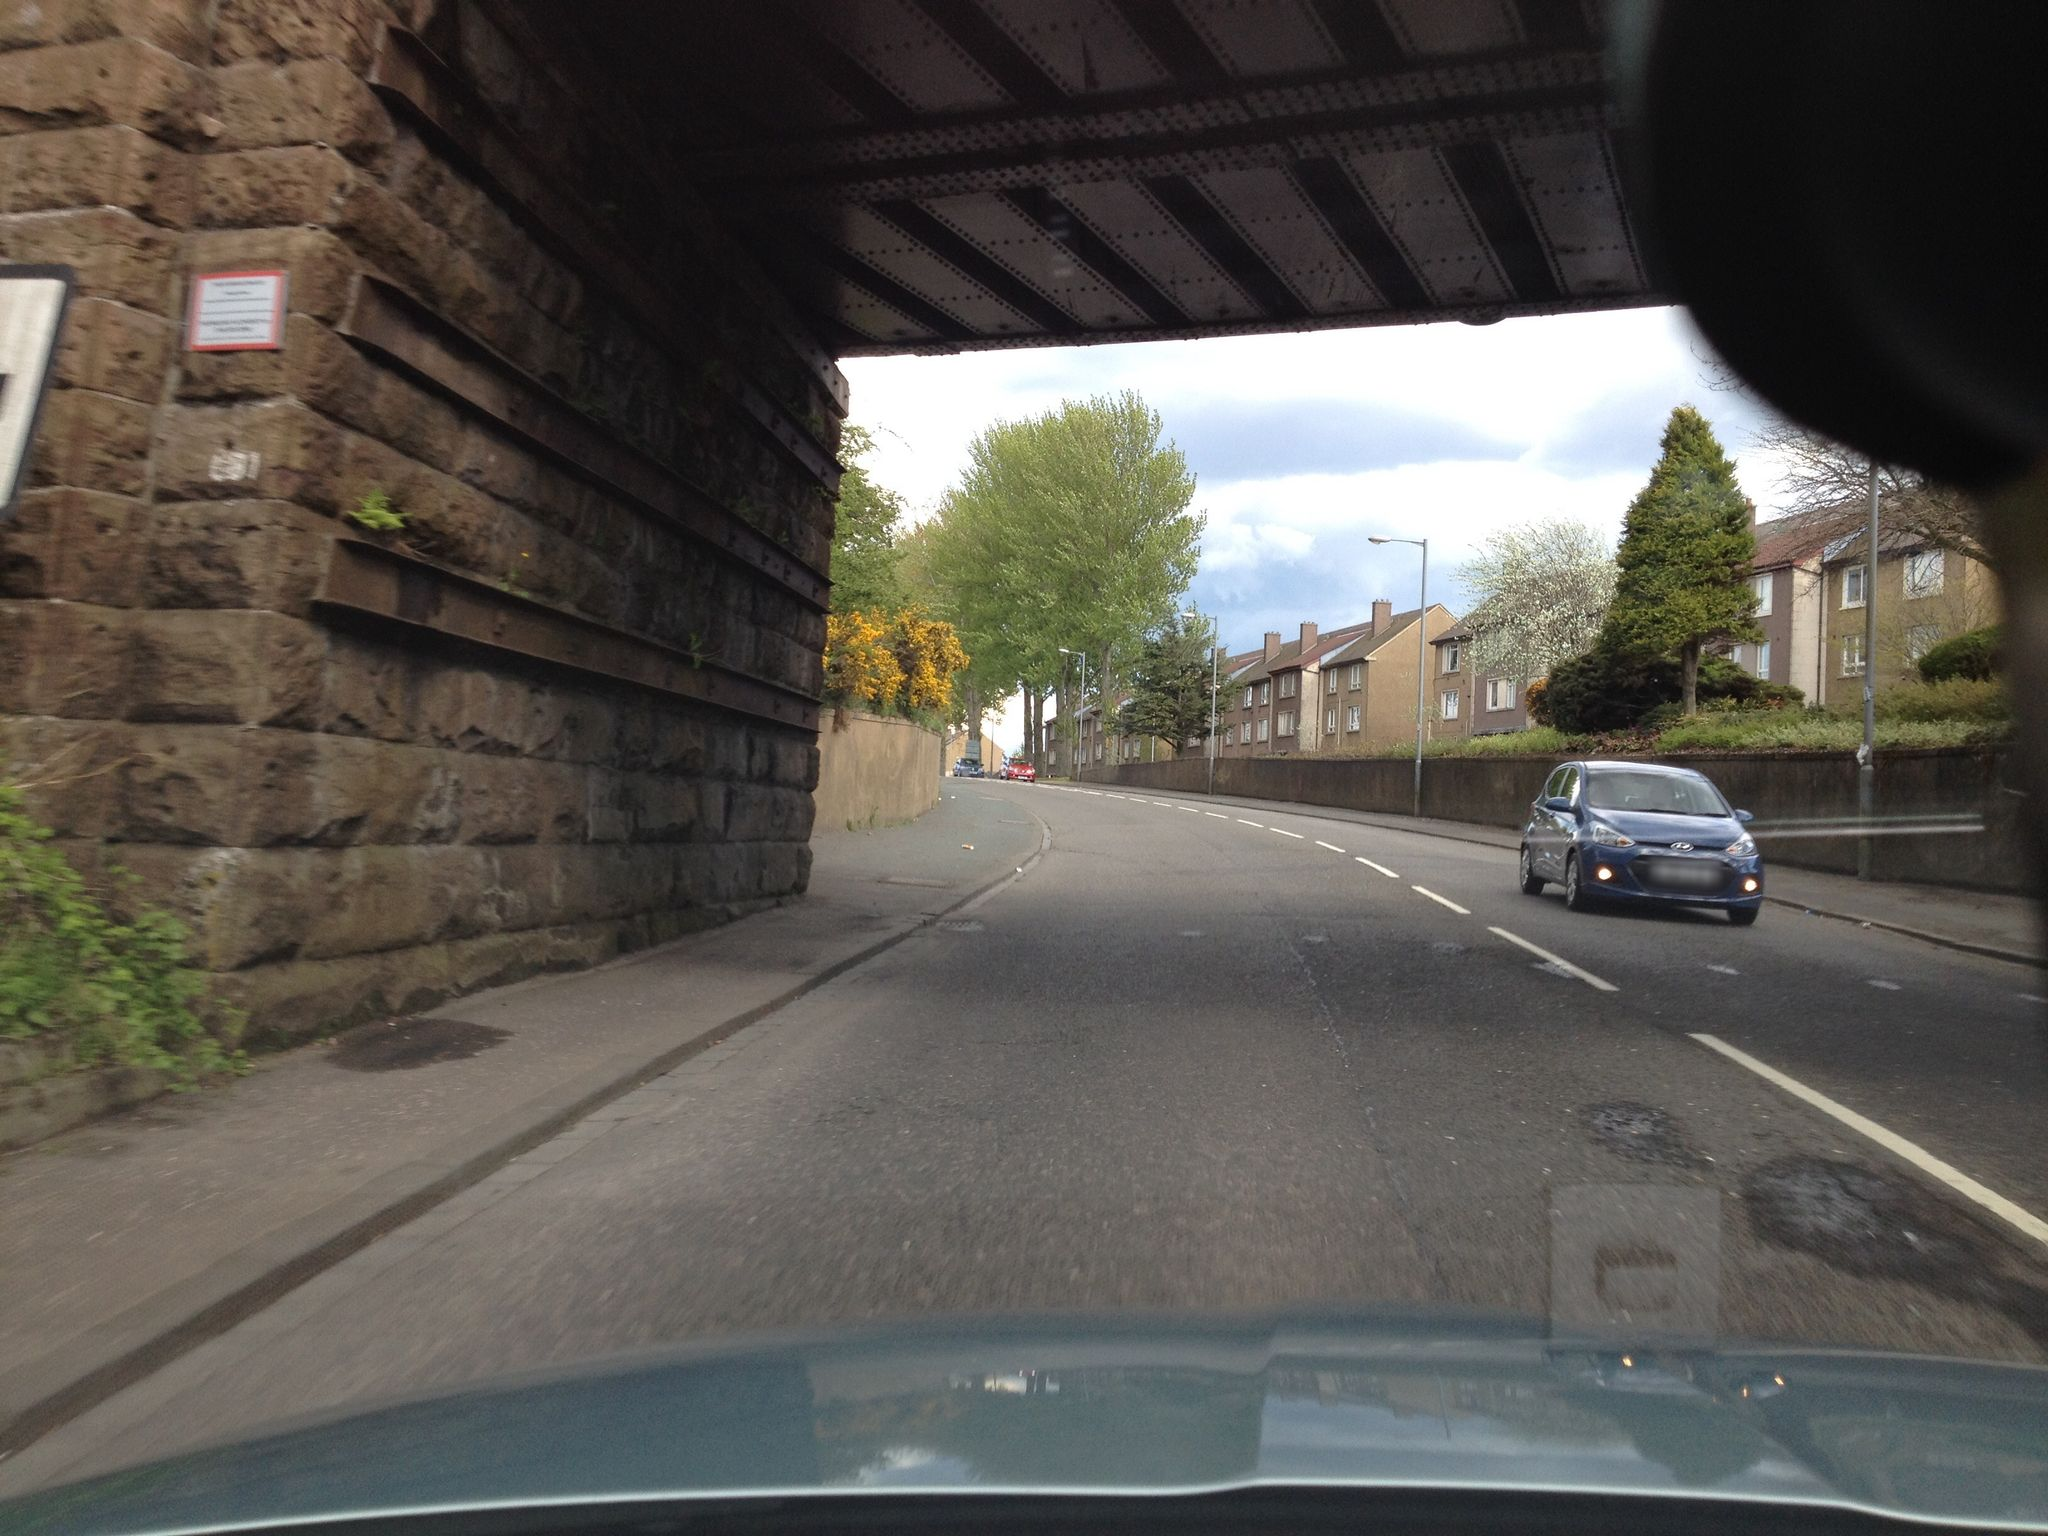car: (1517, 758, 1767, 929)
